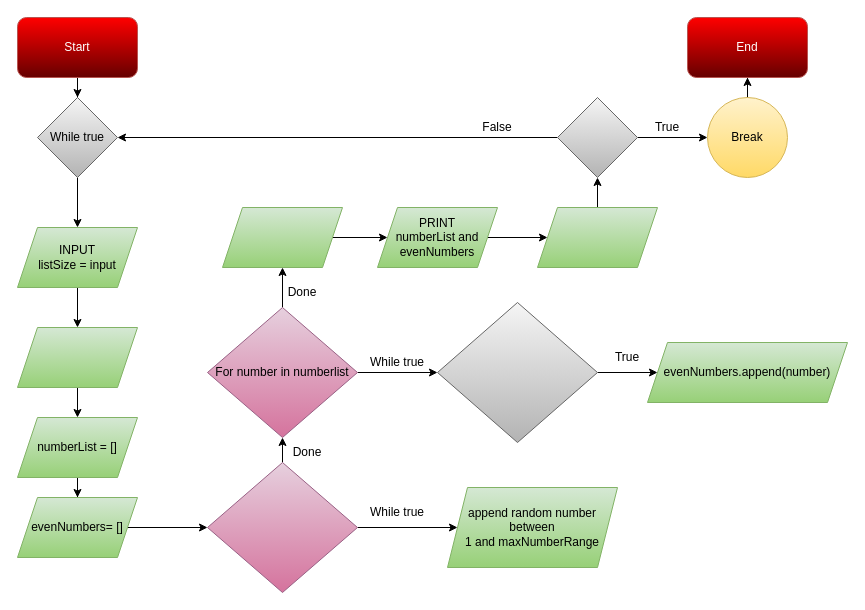
Some shapes in this 865 by 610 pixel diagram are drawn without their labels. Here are the shapes that lost their labels. From the top down, the centre of each, then its label:
[597,137]: if q == "q"
[282,237]: evenNumbers.sort()
[597,237]: INPUT q = input
[77,357]: INPUT maxNumberRange = input
[517,372]: if number % 2 == 0 and number not in evenNumbers
[282,527]: For i in range(0, listSize)
